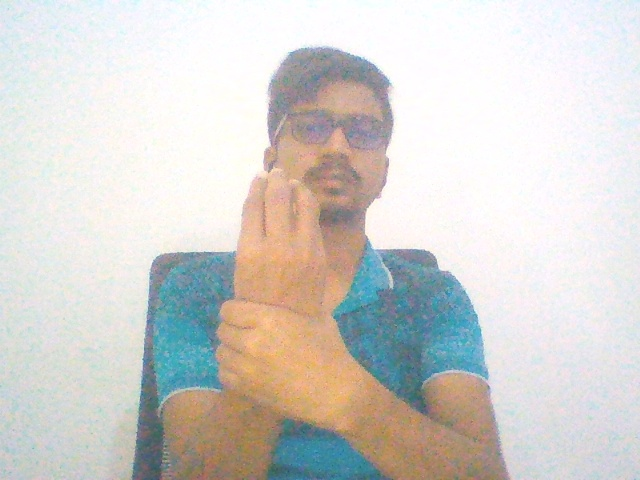tree: (198, 150, 393, 440)
